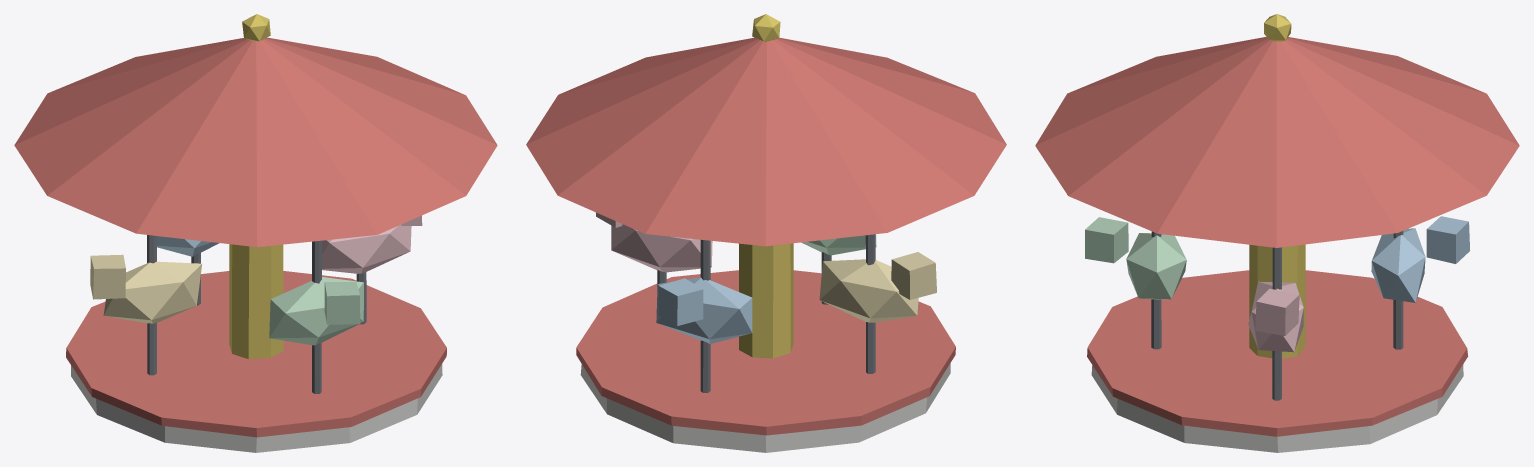
Rendered from merrygoround.fbx.
3 renders of one model, left to right at view 1: azimuth 30°, elevation 25°; view 2: azimuth 150°, elevation 25°; view 3: azimuth 270°, elevation 25°, orthographic.
Visible parts, largest first — view 1: MerryGoRound; view 2: MerryGoRound; view 3: MerryGoRound.
Boxes of the visible parts, x1,y1,x2,y2 form: MerryGoRound: [14, 14, 497, 452]; MerryGoRound: [526, 14, 1006, 452]; MerryGoRound: [1035, 14, 1519, 452].
Size of the model in its own units: 5.99 by 4.96 by 6.01.
